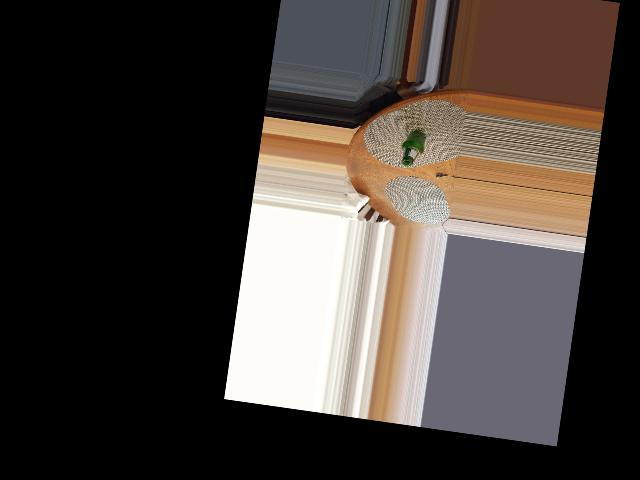beer: (398, 128, 426, 167)
